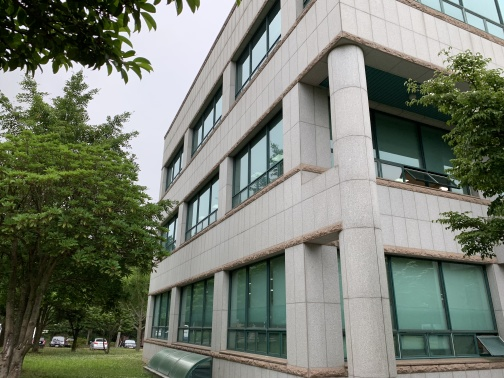Second Library: (154, 23, 491, 378)
